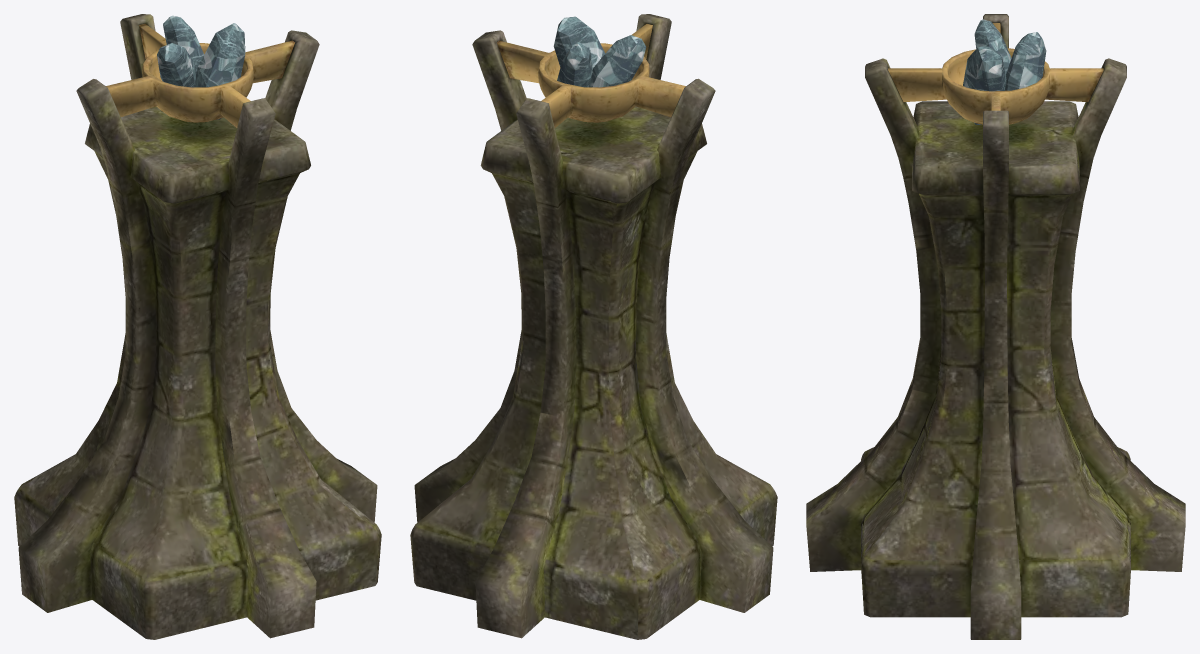
File: Tyros_Brazier_c-transformed.glb
3 renders of one model, left to right at view 1: azimuth 30°, elevation 25°; view 2: azimuth 150°, elevation 25°; view 3: azimuth 270°, elevation 25°, orthographic.
Parts seen in each view (by area): view 1: default; view 2: default; view 3: default.
Boxes of the visible parts, bbox=[...] form: default: bbox=[14, 14, 381, 639]; default: bbox=[410, 14, 777, 639]; default: bbox=[806, 14, 1185, 639].
Size of the model in its own units: 2.69 by 4.13 by 2.69.
2 materials, 2 textured.
